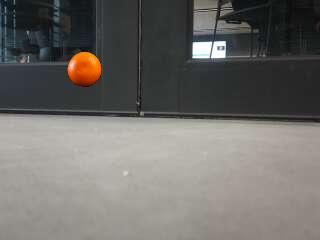Orange: (67, 52, 102, 87)
